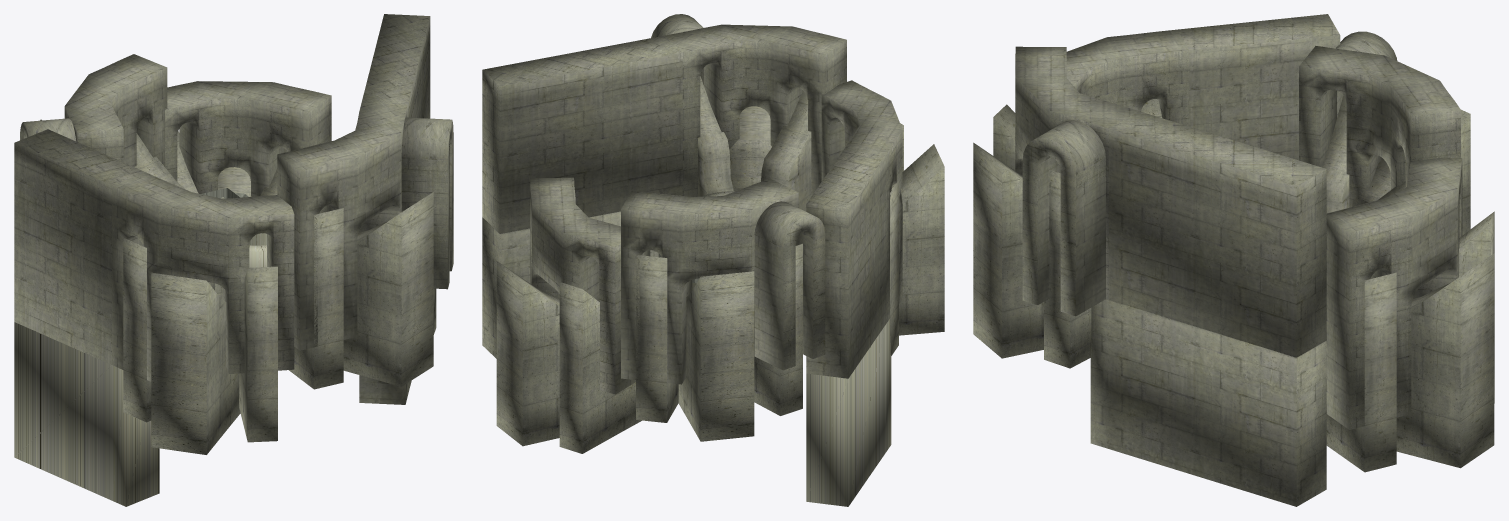
The model's file is SM_Scaffoldingue_Block_00.fbx.
3 renders of one model, left to right at view 1: azimuth 30°, elevation 25°; view 2: azimuth 150°, elevation 25°; view 3: azimuth 270°, elevation 25°, orthographic. The views are drawn at different scales.
Visible parts, largest first — view 1: SM_Scaffoldingue_Block_00; view 2: SM_Scaffoldingue_Block_00; view 3: SM_Scaffoldingue_Block_00.
Boxes of the visible parts, box(x1,y1,x2,y2) form: SM_Scaffoldingue_Block_00: box(14, 14, 453, 506); SM_Scaffoldingue_Block_00: box(482, 14, 944, 506); SM_Scaffoldingue_Block_00: box(973, 14, 1494, 506).
Size of the model in its own units: 25229 by 21320 by 25792.
